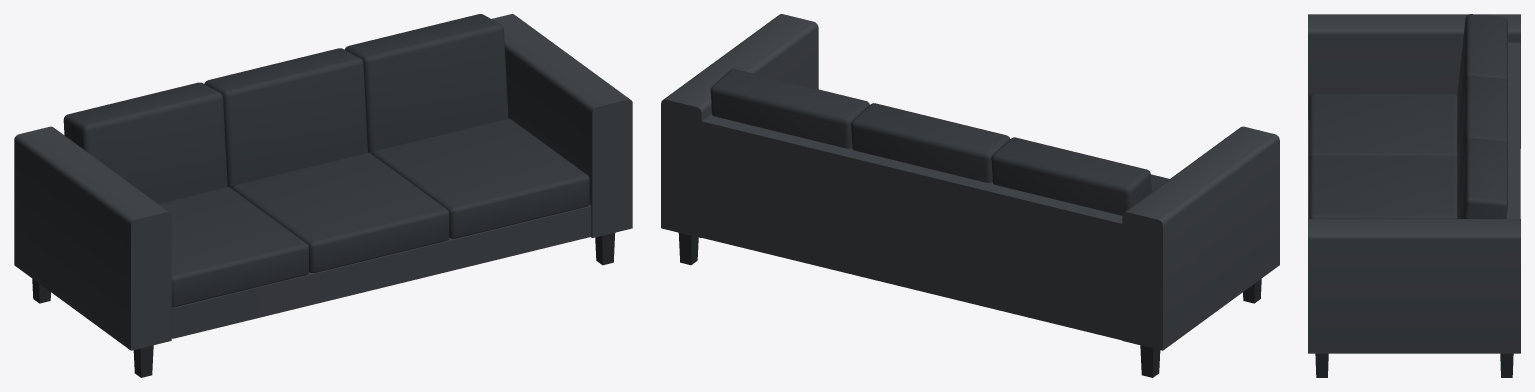
Rendered from Sofa6_C1.fbx.
3 views of the same model, side by side, from view 1: azimuth 30°, elevation 25°; view 2: azimuth 150°, elevation 25°; view 3: azimuth 270°, elevation 25° (orthographic). The views are drawn at different scales.
Visible parts, largest first — view 1: Sofa6_C1; view 2: Sofa6_C1; view 3: Sofa6_C1.
Boxes of the visible parts, bbox=[...] form: Sofa6_C1: bbox=[14, 14, 632, 377]; Sofa6_C1: bbox=[661, 14, 1279, 377]; Sofa6_C1: bbox=[1308, 14, 1520, 377].
Bounding box in the file's own units: 248 × 86.76 × 100.
